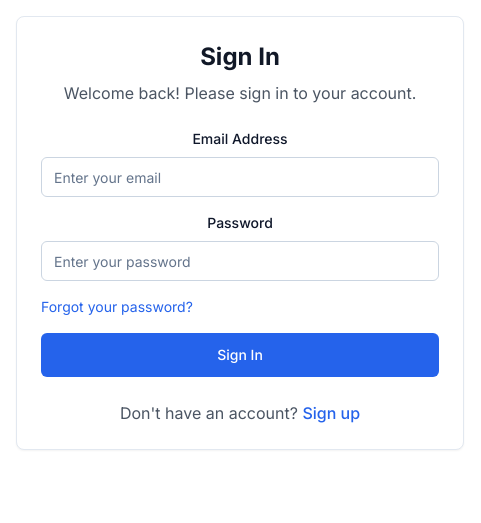
Scenario: LoginForm › clears form errors when user starts typing
This screenshot has width=481, height=523.
Submit empty form to trigger errors
Click the button "Sign In": (240, 355) [41,333,439,377]
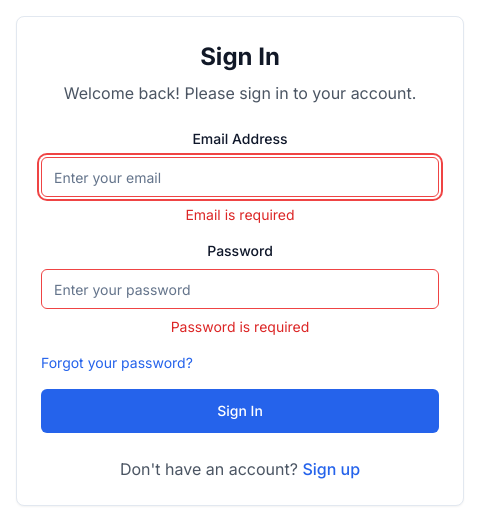
Now the text "Email is required" is shown, box [185,206,295,223]
Start typing in email field
In the field labelled "Email Address": (240, 177) [41,157,439,197], type "test"
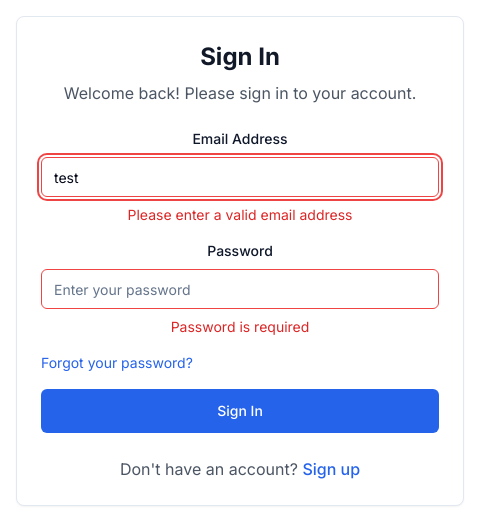
Now the text "Email is required" is gone
